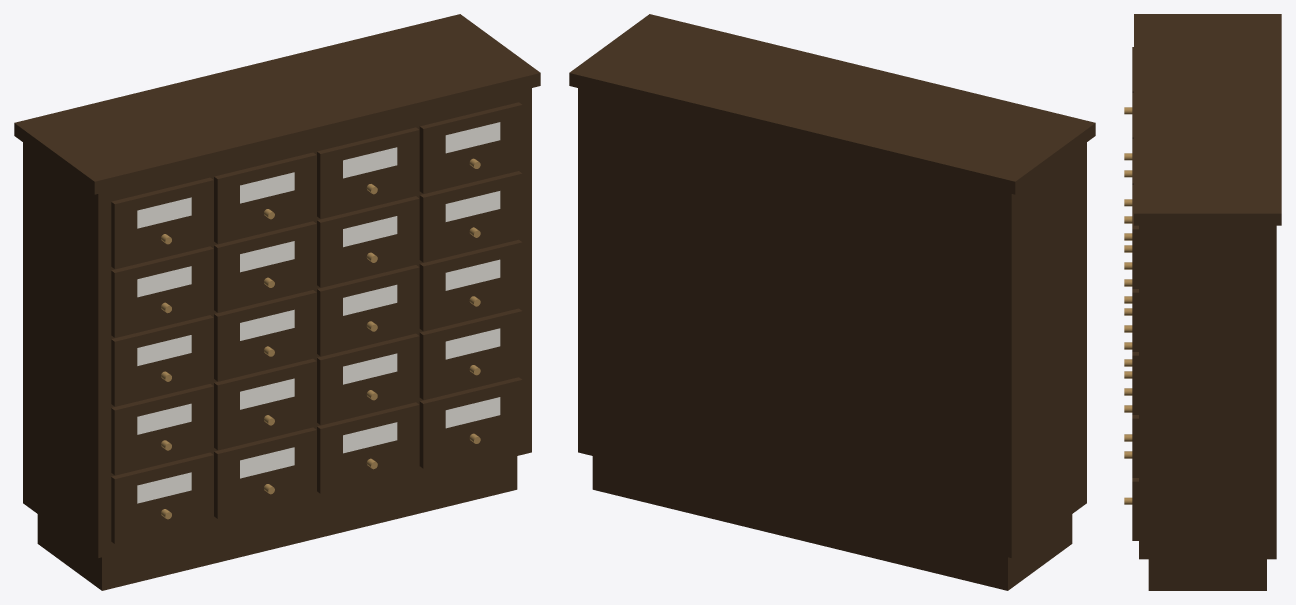
File: apothecary.glb
3 views of the same model, side by side, from view 1: azimuth 30°, elevation 25°; view 2: azimuth 150°, elevation 25°; view 3: azimuth 270°, elevation 25° (orthographic). The views are drawn at different scales.
Parts seen in each view (by area): view 1: front (×20), carcass, cornice, label (×20), plinth; view 2: carcass, cornice, plinth; view 3: carcass, cornice, plinth, front (×5).
Part boxes in pixels (x1,y1,x2,y2): front (×20): (111,102,522,543); carcass: (23,88,531,558); cornice: (14,14,540,194); label (×20): (137,122,500,503); plinth: (37,456,517,590); carcass: (578,88,1086,558); cornice: (569,14,1095,194); plinth: (592,456,1072,590); carcass: (1139,225,1276,559); cornice: (1134,14,1281,225); plinth: (1148,559,1266,590); front (×5): (1132,185,1138,540).
Bounding box in the file's own units: 1.44 × 1.29 × 0.4795.
